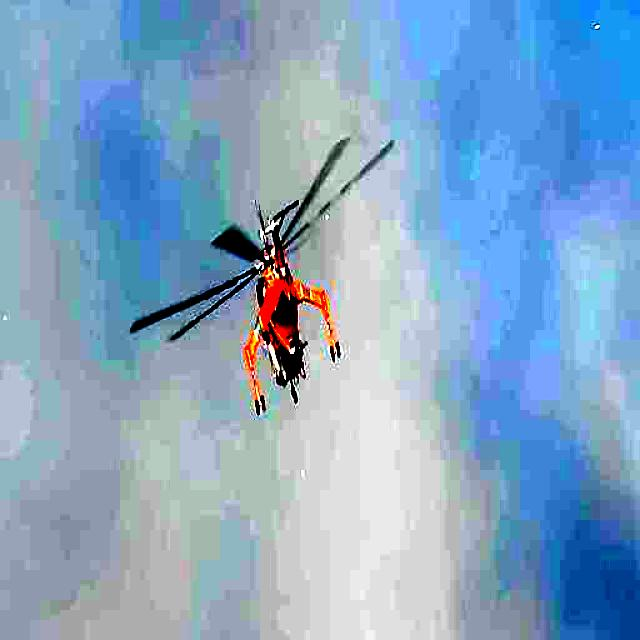drone: (130, 135, 400, 420)
